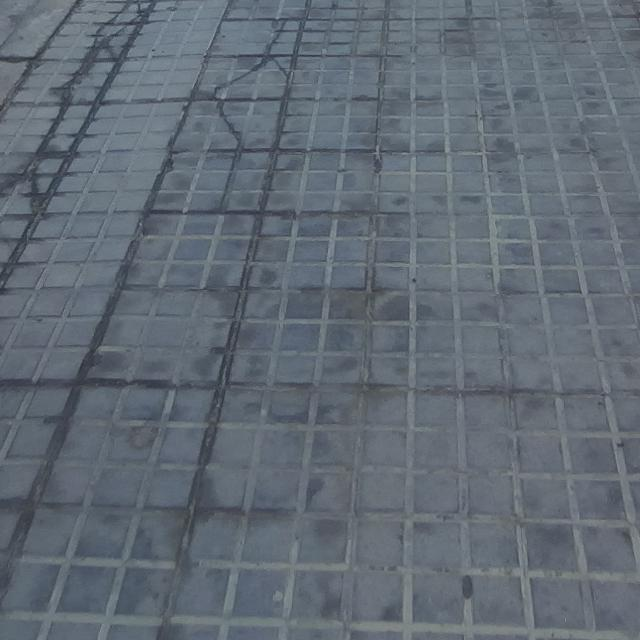calcada_quebrada: (7, 147, 63, 218), (62, 23, 129, 82), (204, 94, 258, 151), (211, 54, 289, 93), (32, 84, 74, 145), (257, 17, 299, 50), (107, 0, 162, 22)
